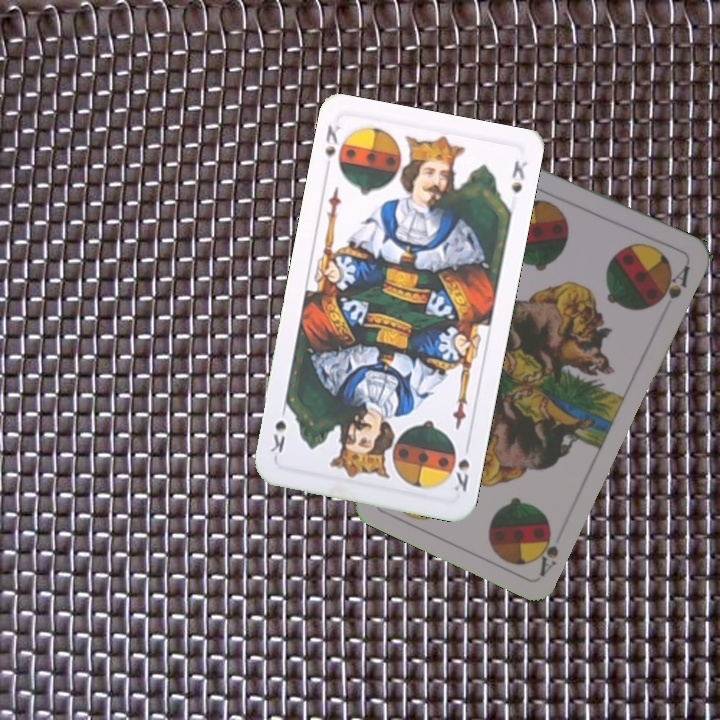SA: (532, 524, 561, 579)
SK: (320, 120, 343, 176), (449, 455, 472, 495)
